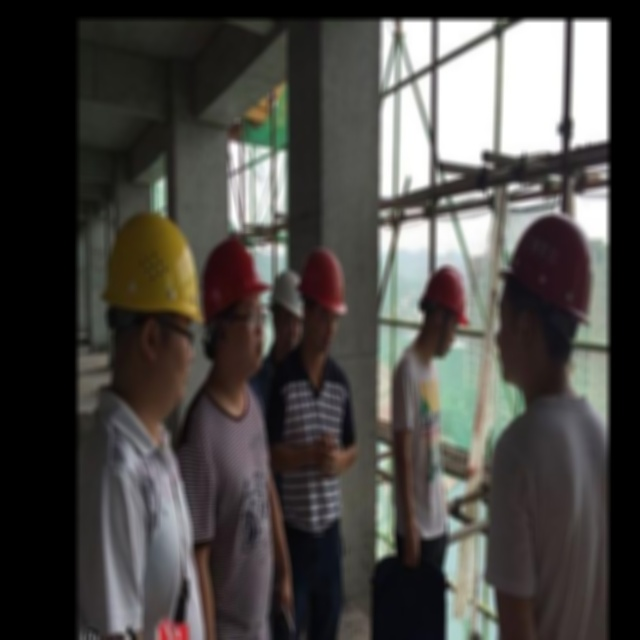Con_Casco: (104, 211, 195, 408)
Sin_Chaleco: (274, 350, 354, 529)
